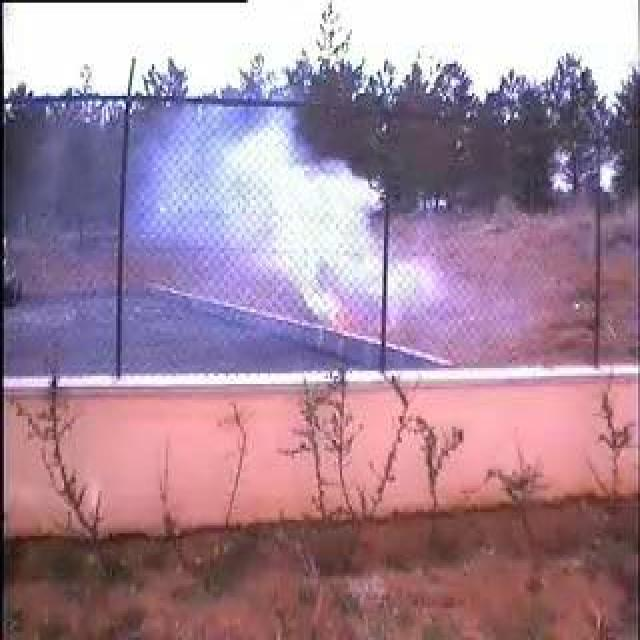Smoke: (125, 100, 437, 356)
